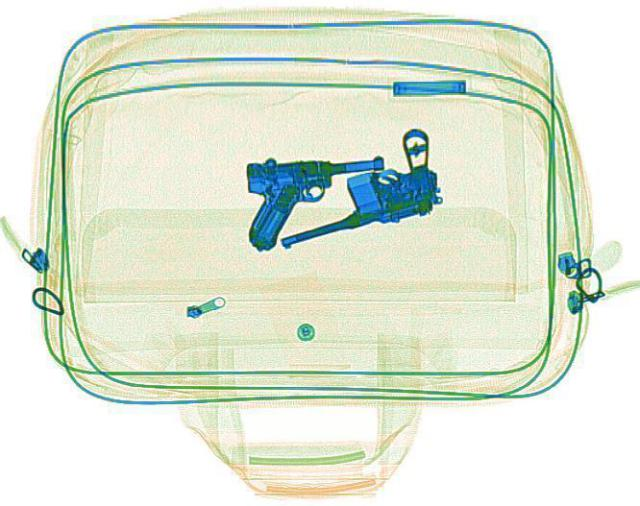Gun: (244, 125, 464, 255), (240, 151, 388, 252)
